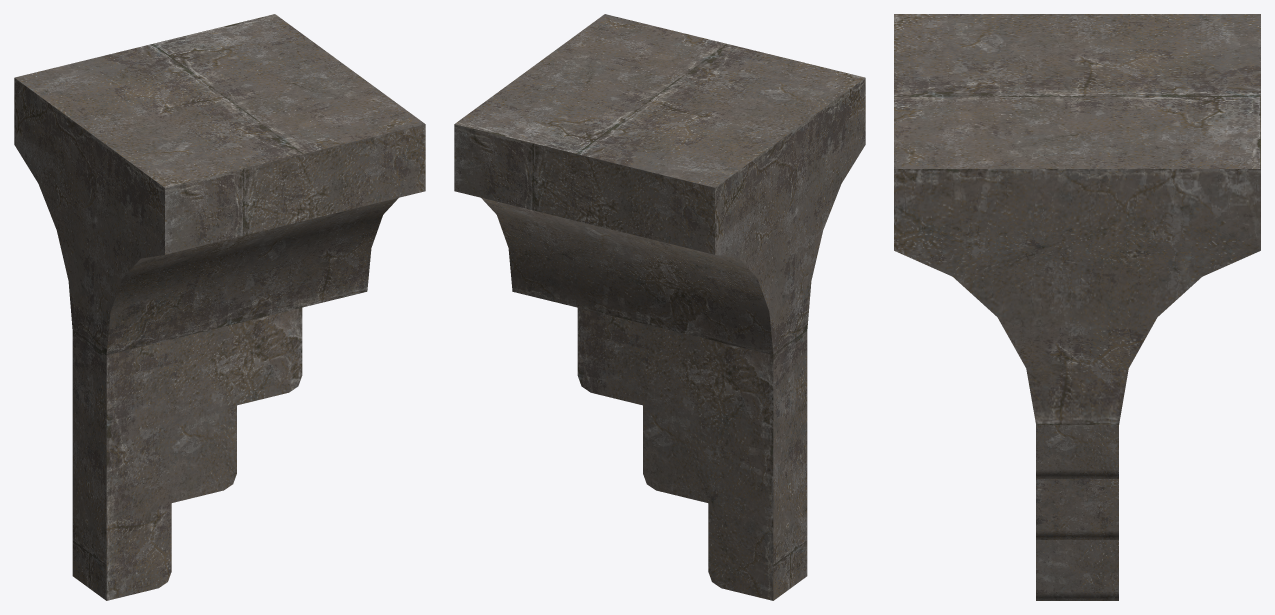
The model's file is WallDecoration.fbx.
The picture shows the model from 3 angles, left to right: view 1: azimuth 30°, elevation 25°; view 2: azimuth 150°, elevation 25°; view 3: azimuth 270°, elevation 25°; orthographic projection. The views are drawn at different scales.
Parts seen in each view (by area): view 1: Trim_WallDecoration_A1; view 2: Trim_WallDecoration_A1; view 3: Trim_WallDecoration_A1.
Part boxes in pixels (x1,y1,x2,y2): Trim_WallDecoration_A1: [14, 14, 425, 600]; Trim_WallDecoration_A1: [454, 14, 865, 600]; Trim_WallDecoration_A1: [894, 14, 1260, 600].
Size of the model in its own units: 100 by 167 by 100.
